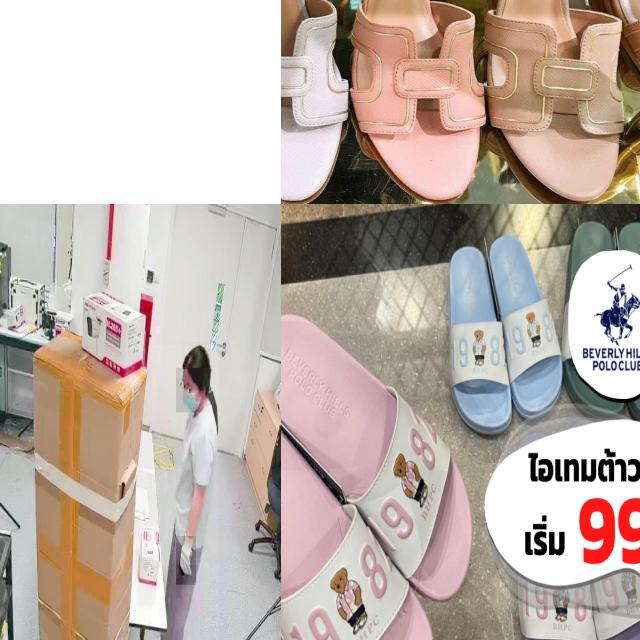Sandals: (281, 283, 486, 640), (472, 0, 640, 204), (344, 0, 500, 204), (430, 222, 566, 440), (281, 0, 362, 204), (571, 0, 640, 104)
face_mask: (176, 368, 204, 412)
hand_glove: (176, 536, 196, 586)
head_nohelmet: (182, 342, 212, 369)
person: (152, 344, 219, 640)
